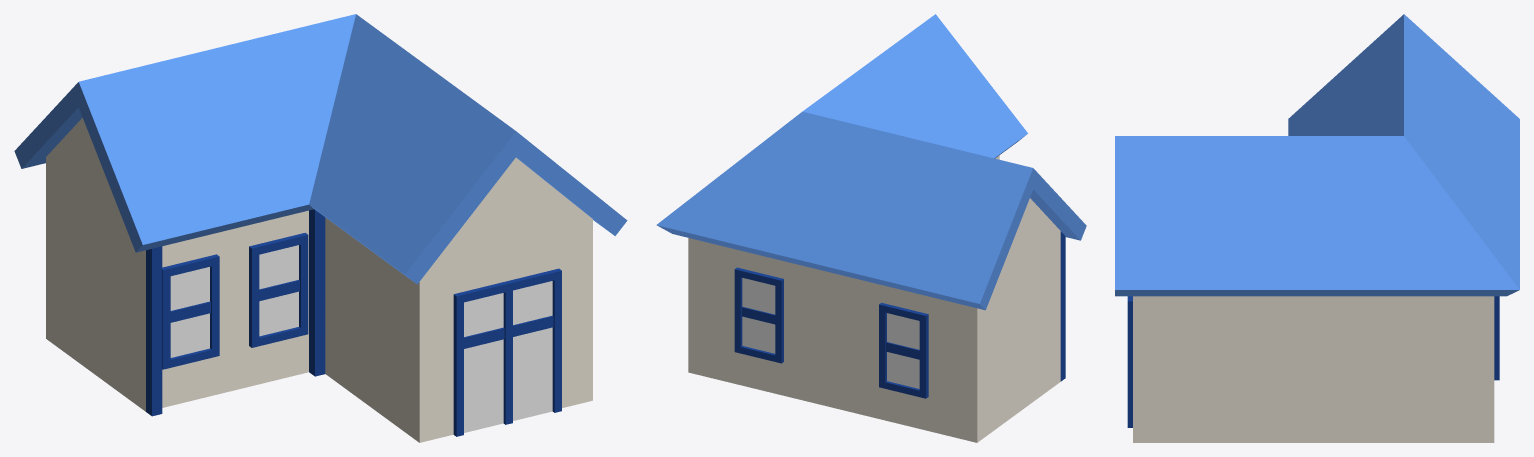
Rendered from M1_House03.fbx.
The picture shows the model from 3 angles, left to right: view 1: azimuth 30°, elevation 25°; view 2: azimuth 150°, elevation 25°; view 3: azimuth 270°, elevation 25°; orthographic projection. The views are drawn at different scales.
Visible parts, largest first — view 1: mergedBlocks; view 2: mergedBlocks; view 3: mergedBlocks.
Boxes of the visible parts, <box> form: mergedBlocks: <box>14,14,627,442</box>; mergedBlocks: <box>656,14,1086,442</box>; mergedBlocks: <box>1115,14,1519,442</box>.
Size of the model in its own units: 22.41 by 16.41 by 22.41.
